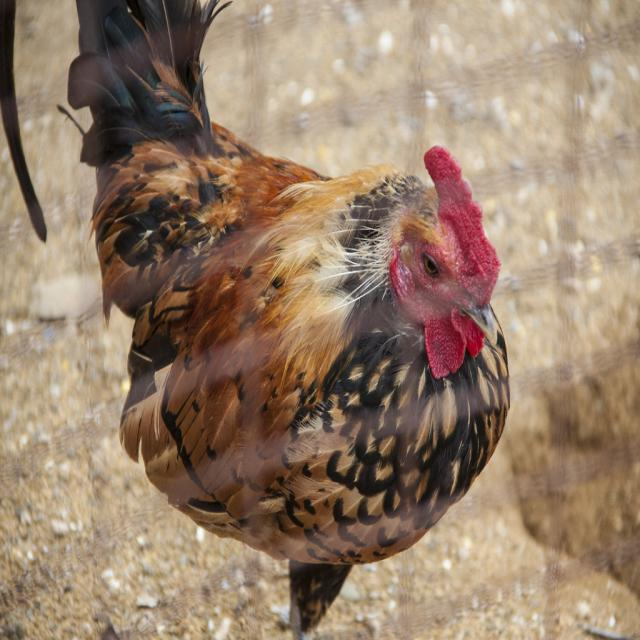Chicken: (98, 59, 508, 639)
